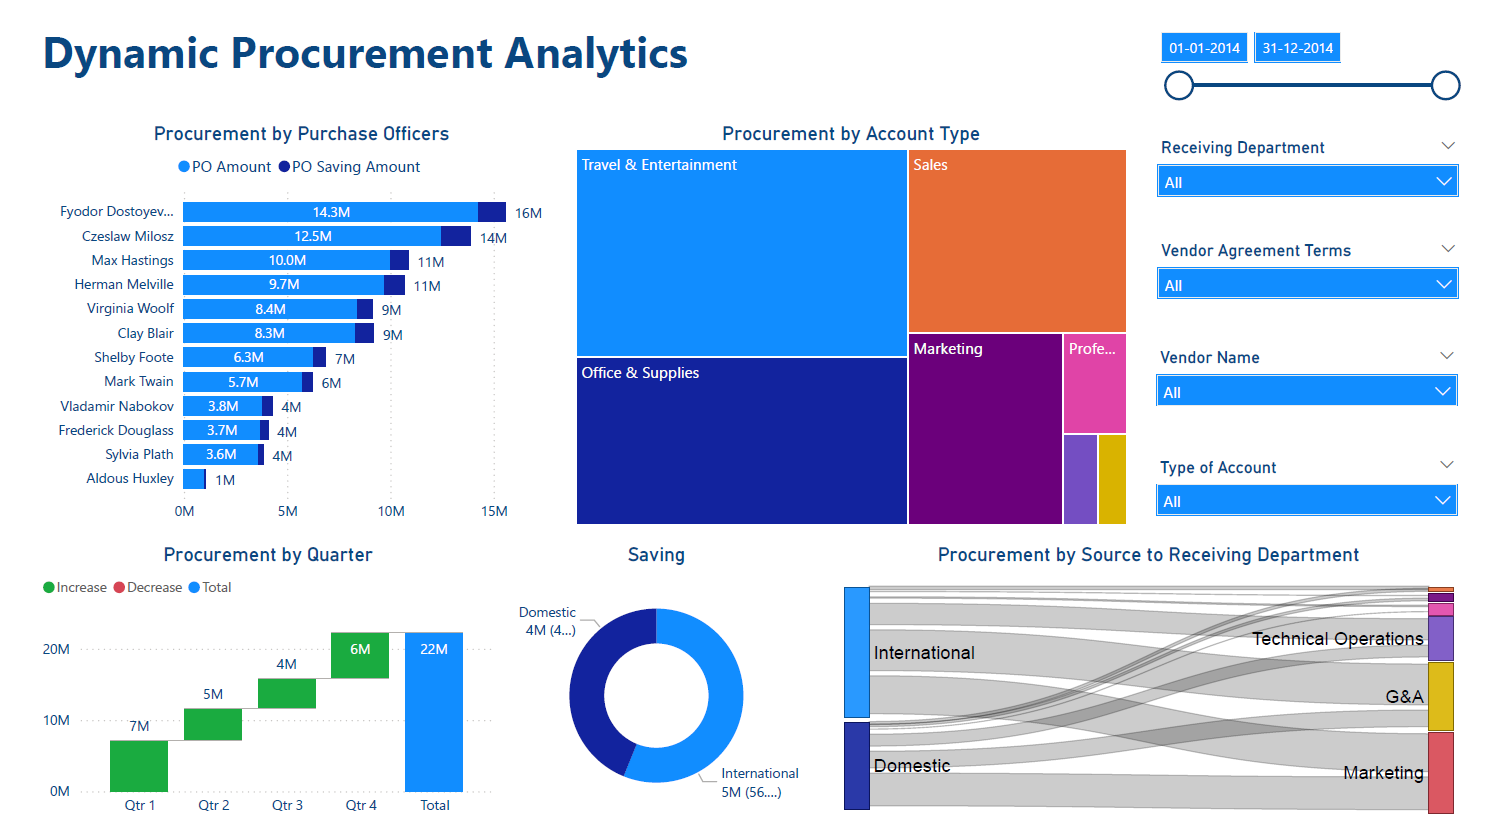

The dashboard page shown, as its layout file describes it:
{"tool":"powerbi","page":{"name":"Dashboard 1","canvas":[1280,720],"ordinal":0},"visuals":[{"type":"slicer","fields":{"Values":["Date.Date"]},"box":[987.8,20.6,280.9,84.4],"z":0},{"type":"textbox","box":[25,16.7,638.8,79.7],"z":1000},{"type":"barChart","title":"Procurement by Purchase Officers","fields":{"Y":["Procurement_Data.PO Amount","Procurement_Data.PO Saving Amount"],"Category":["Procurement_Data.Purchase Officers"]},"box":[24.7,108,459.9,356],"z":2000},{"type":"treemap","title":"Procurement by Account Type","fields":{"Group":["Procurement_Data.Type of Account"],"Values":["Procurement_Data.PO Amount"]},"box":[487.7,108,488.7,356],"z":3000},{"type":"slicer","fields":{"Values":["Procurement_Data.Receiving Department"]},"box":[987.9,117.9,281.5,69],"z":4000},{"type":"slicer","fields":{"Values":["Procurement_Data.Vendor Agreement Terms"]},"box":[987.9,207.1,281.5,69],"z":5000},{"type":"slicer","fields":{"Values":["Procurement_Data.Vendor Name"]},"box":[986.8,299.6,281.5,69],"z":6000},{"type":"slicer","fields":{"Values":["Procurement_Data.Type of Account"]},"box":[986.8,395.2,281.5,69],"z":7000},{"type":"SankeyDiagram1446463184954","title":"Procurement by Source to Receiving Department","fields":{"Source":["Procurement_Data.Domestic or International"],"Destination":["Procurement_Data.Receiving Department"],"Weight":["Procurement_Data.PO Amount"]},"box":[710.6,473.8,558.7,246.4],"z":8000},{"type":"donutChart","title":"Saving","fields":{"Category":["Procurement_Data.Domestic or International"],"Y":["Procurement_Data.PO Saving Amount"]},"box":[427,473.8,271.9,246.4],"z":9000},{"type":"waterfallChart","title":"Procurement by Quarter","fields":{"Category":["Date.Date.Variation.Date Hierarchy.Quarter"],"Y":["Procurement_Data.PO Amount"]},"box":[25,474,402,246],"z":10000}]}

Visuals, with their boxes in screenshot pixels (x1, y1, x2, y2), scaled from the page's 1280x720 canvas onto the 1489x828 screenshot:
slicer - Date.Date: <box>1149,24,1476,121</box>
textbox: <box>29,19,772,111</box>
"Procurement by Purchase Officers" barChart: <box>29,124,564,534</box>
"Procurement by Account Type" treemap: <box>567,124,1136,534</box>
slicer - Procurement_Data.Receiving Department: <box>1149,136,1477,215</box>
slicer - Procurement_Data.Vendor Agreement Terms: <box>1149,238,1477,318</box>
slicer - Procurement_Data.Vendor Name: <box>1148,345,1475,424</box>
slicer - Procurement_Data.Type of Account: <box>1148,454,1475,534</box>
"Procurement by Source to Receiving Department" SankeyDiagram1446463184954: <box>827,545,1477,827</box>
"Saving" donutChart: <box>497,545,813,827</box>
"Procurement by Quarter" waterfallChart: <box>29,545,497,827</box>
